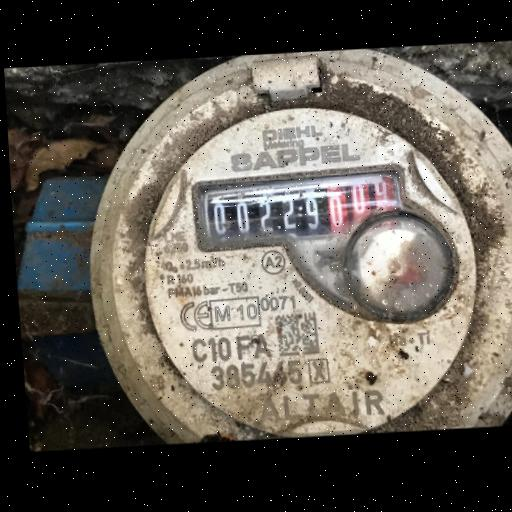0: (324, 184, 354, 233), (226, 193, 255, 241), (208, 195, 232, 243), (350, 183, 373, 226)
2: (250, 191, 281, 239), (275, 188, 305, 237)
9: (299, 186, 326, 233), (370, 175, 397, 215)
border_water_meter_number: (189, 160, 415, 253)
